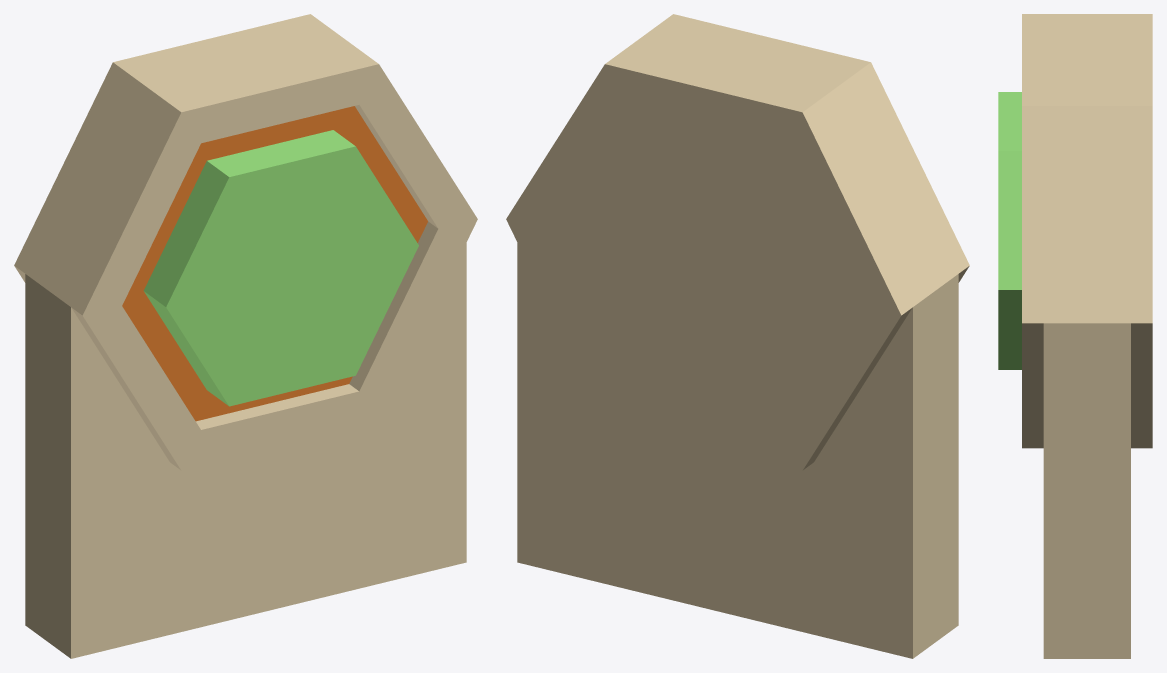
File: Button.fbx
3 renders of one model, left to right at view 1: azimuth 30°, elevation 25°; view 2: azimuth 150°, elevation 25°; view 3: azimuth 270°, elevation 25°, orthographic. The views are drawn at different scales.
Parts seen in each view (by area): view 1: Button_Base, Button_Housing, Button; view 2: Button_Housing, Button_Base; view 3: Button_Housing, Button_Base, Button.
Boxes of the visible parts, <box> form: Button_Base: <box>25,243,466,658</box>; Button_Housing: <box>14,14,477,470</box>; Button: <box>143,130,418,406</box>; Button_Housing: <box>506,14,969,470</box>; Button_Base: <box>517,243,958,658</box>; Button_Housing: <box>1022,14,1152,448</box>; Button_Base: <box>1043,323,1130,658</box>; Button: <box>998,92,1021,369</box>.
Bounding box in the file's own units: 200 × 257 × 70.84.
